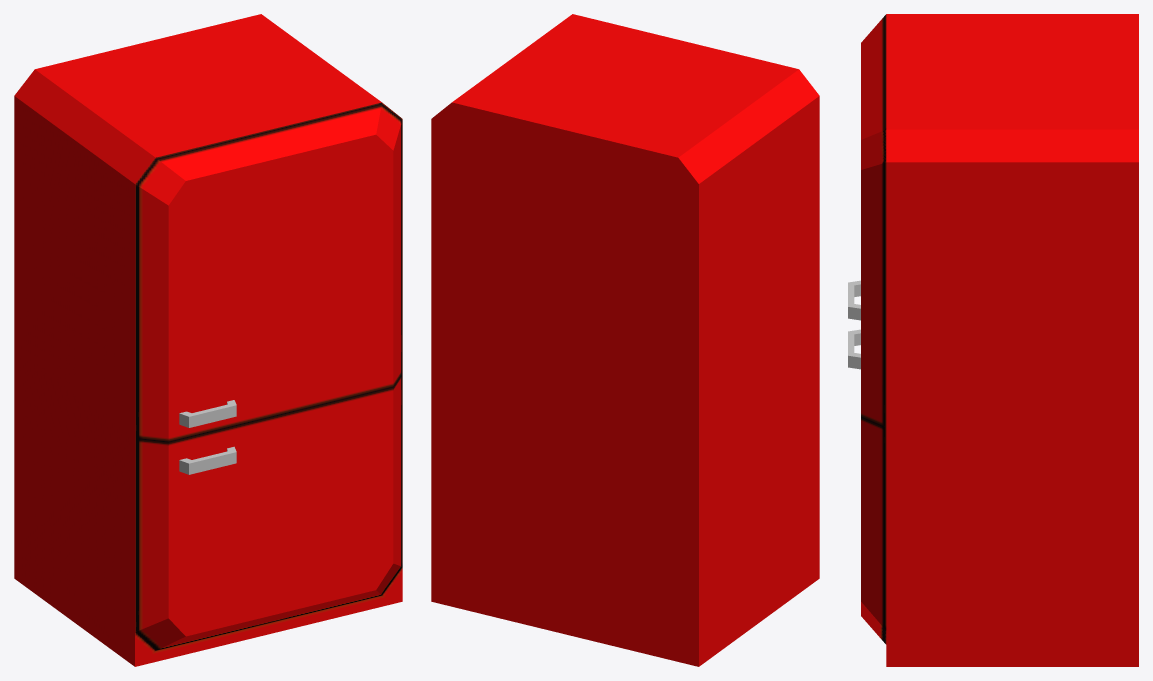
File: refrigerator3_PLY.fbx
3 views of the same model, side by side, from view 1: azimuth 30°, elevation 25°; view 2: azimuth 150°, elevation 25°; view 3: azimuth 270°, elevation 25° (orthographic). The views are drawn at different scales.
Visible parts, largest first — view 1: refrigerator3_PLY; view 2: refrigerator3_PLY; view 3: refrigerator3_PLY.
Part boxes in pixels (x1=…): refrigerator3_PLY: x1=14, y1=14, x2=402, y2=666; refrigerator3_PLY: x1=431, y1=14, x2=819, y2=666; refrigerator3_PLY: x1=848, y1=14, x2=1138, y2=666.
Size of the model in its own units: 2.15 by 3.86 by 1.93.
